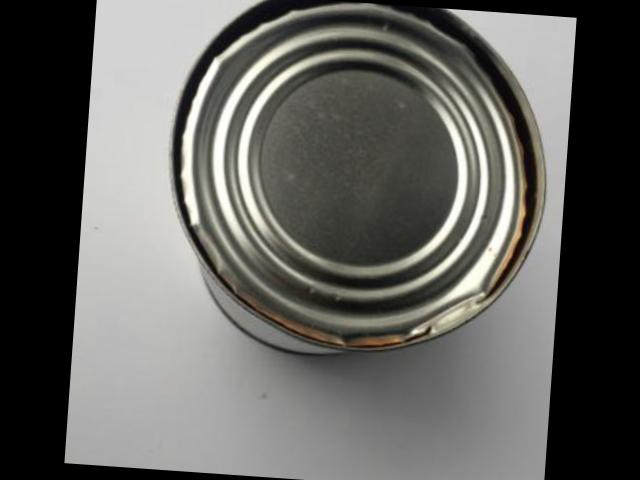metal: (176, 0, 546, 351)
